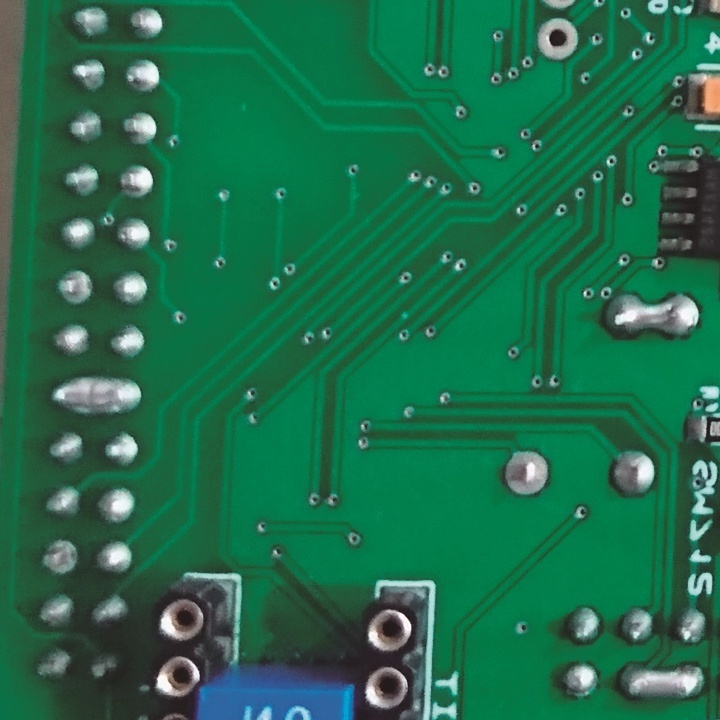F: (504, 446, 553, 502), (533, 13, 581, 62), (121, 55, 166, 98), (113, 163, 159, 203), (39, 534, 80, 578), (53, 266, 95, 306)
P: (599, 287, 706, 343), (48, 369, 147, 418), (614, 658, 709, 706)
